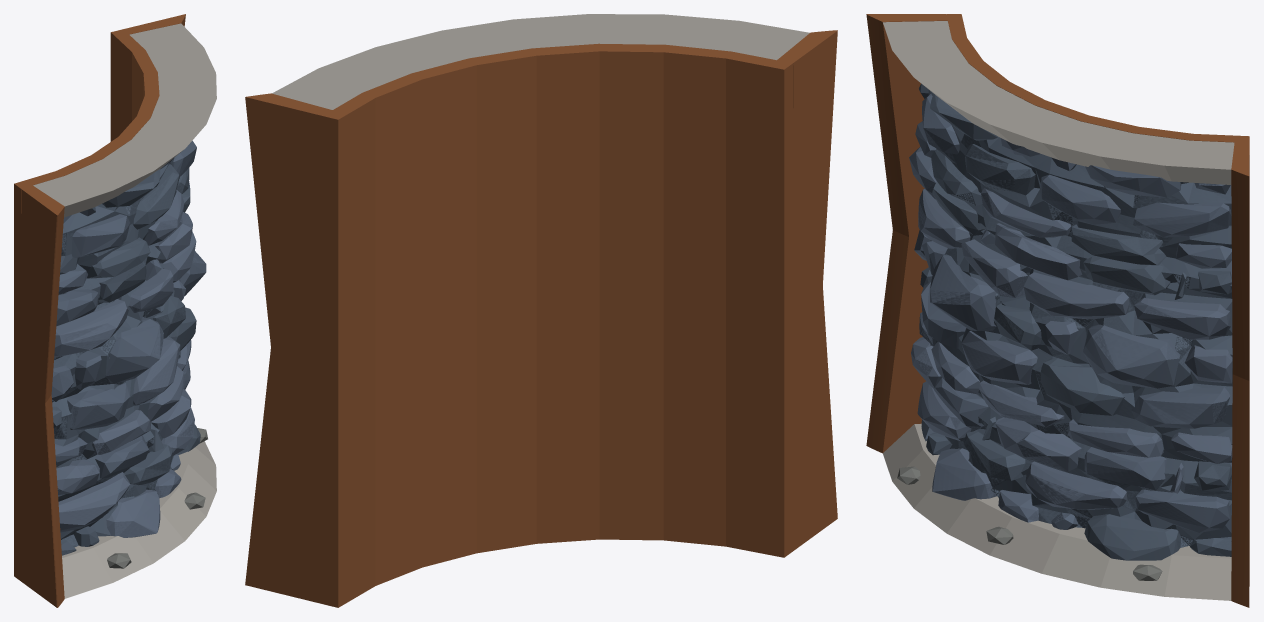
The model's file is Corner_Wall.glb.
3 views of the same model, side by side, from view 1: azimuth 30°, elevation 25°; view 2: azimuth 150°, elevation 25°; view 3: azimuth 270°, elevation 25° (orthographic). The views are drawn at different scales.
Visible parts, largest first — view 1: Cube.067; view 2: Cube.067; view 3: Cube.067.
Boxes of the visible parts, x1,y1,x2,y2 form: Cube.067: (14, 14, 216, 607); Cube.067: (245, 14, 837, 607); Cube.067: (866, 14, 1249, 607).
Bounding box in the file's own units: 4.84 × 6 × 4.83.
